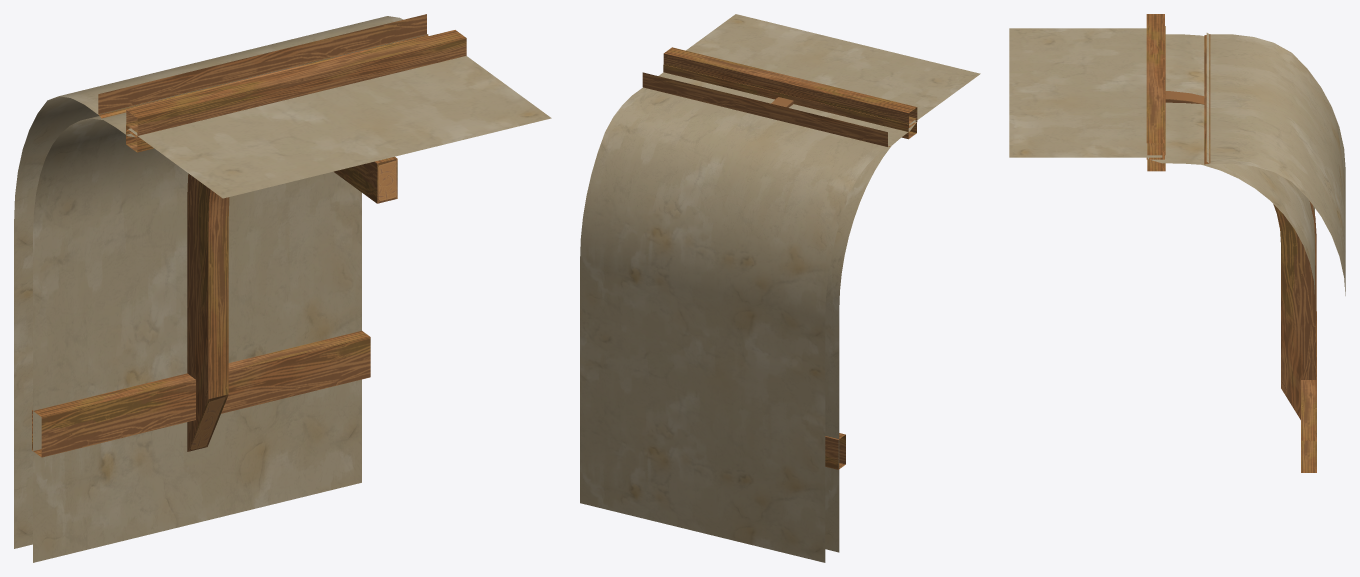
File: Overhang_Plaster_Long.gltf
3 views of the same model, side by side, from view 1: azimuth 30°, elevation 25°; view 2: azimuth 150°, elevation 25°; view 3: azimuth 270°, elevation 25° (orthographic). The views are drawn at different scales.
Visible parts, largest first — view 1: Overhang_Plaster_Long; view 2: Overhang_Plaster_Long; view 3: Overhang_Plaster_Long.
Part boxes in pixels (x1=…): Overhang_Plaster_Long: x1=14, y1=14, x2=551, y2=562; Overhang_Plaster_Long: x1=580, y1=14, x2=980, y2=562; Overhang_Plaster_Long: x1=1009, y1=14, x2=1345, y2=472.
Size of the model in its own units: 2 by 3.03 by 2.2.
2 materials, 2 textured.
